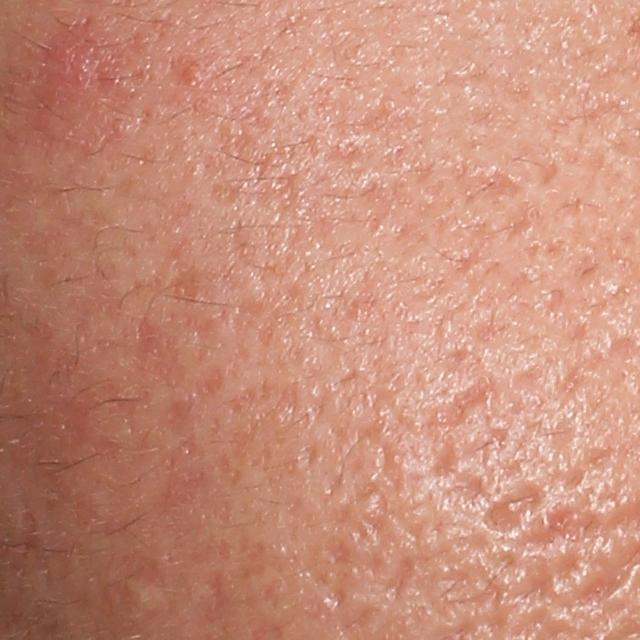atrophic_scar: (447, 159, 526, 221), (422, 371, 503, 429), (514, 506, 609, 549), (484, 479, 552, 538), (374, 545, 419, 617), (444, 465, 501, 519), (428, 431, 466, 482)
